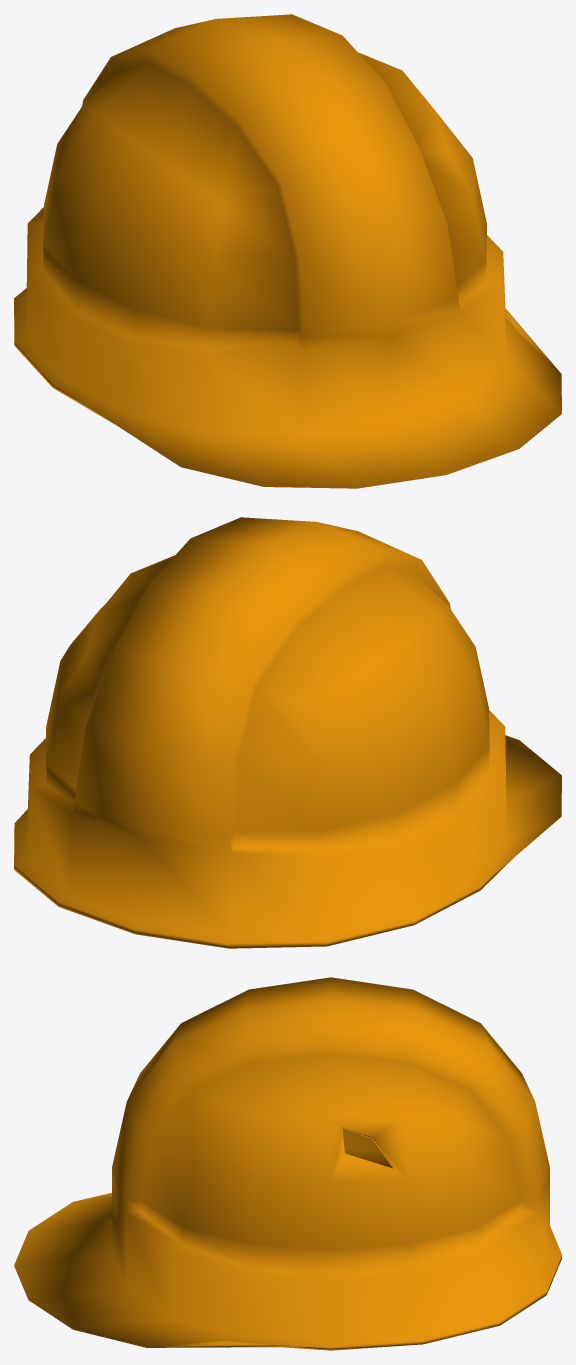
File: Helmet_Destroy.fbx
The picture shows the model from 3 angles, top to bottom: view 1: azimuth 30°, elevation 25°; view 2: azimuth 150°, elevation 25°; view 3: azimuth 270°, elevation 25°; orthographic projection. The views are drawn at different scales.
Visible parts, largest first — view 1: Helmet_DestrSUB; view 2: Helmet_DestrSUB; view 3: Helmet_DestrSUB.
Boxes of the visible parts, <box> form: Helmet_DestrSUB: <box>14,14,561,488</box>; Helmet_DestrSUB: <box>14,517,561,948</box>; Helmet_DestrSUB: <box>14,977,561,1350</box>.
Size of the model in its own units: 0.2018 by 0.1364 by 0.2542.
